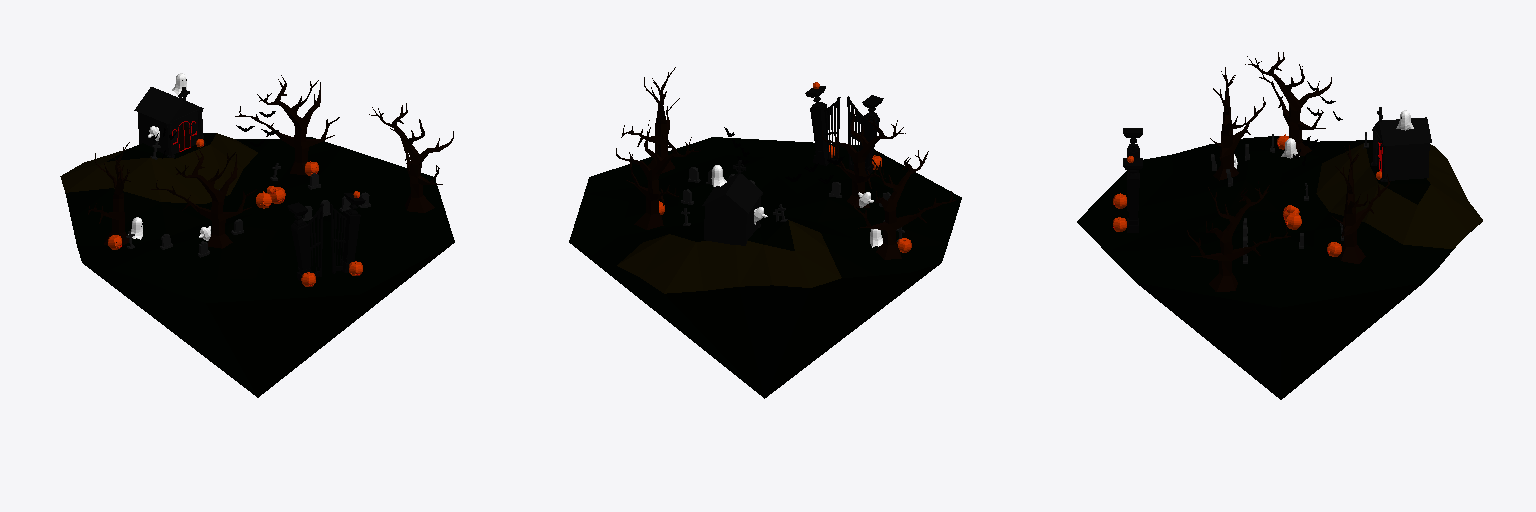
Rendered from lowpoly-graveyard.obj.
The picture shows the model from 3 angles: view 1: azimuth 30°, elevation 25°; view 2: azimuth 150°, elevation 25°; view 3: azimuth 270°, elevation 25°; orthographic projection.
Parts seen in each view (by area): view 1: Cylinder, Cube.012_Cube, Cube.006, Cylinder.001, Cylinder.003_Cylinder.004, Cylinder.002_Cylinder.004, Cylinder.004_Cylinder.005; view 2: Cylinder, Cube.012_Cube, Cube.006, Cylinder.004_Cylinder.005, Cylinder.003_Cylinder.004, Cylinder.001, Cylinder.002_Cylinder.004; view 3: Cylinder, Cube.012_Cube, Cylinder.002_Cylinder.004, Cylinder.004_Cylinder.005, Cylinder.003_Cylinder.004, Cylinder.001, Cube.006.
Part boxes in pixels (x1,y1,x2,y2): Cylinder: (60,133,454,397); Cube.012_Cube: (134,87,205,157); Cube.006: (287,193,365,281); Cylinder.001: (151,148,256,248); Cylinder.003_Cylinder.004: (235,75,339,174); Cylinder.002_Cylinder.004: (369,103,453,212); Cylinder.004_Cylinder.005: (88,142,130,245); Cylinder: (569,137,961,398); Cube.012_Cube: (702,160,762,245); Cube.006: (805,86,883,174); Cylinder.004_Cylinder.005: (852,150,955,259); Cylinder.003_Cylinder.004: (616,120,700,229); Cylinder.001: (822,105,905,207); Cylinder.002_Cylinder.004: (621,67,679,173); Cylinder: (1077,136,1482,399); Cube.012_Cube: (1371,107,1431,181); Cylinder.002_Cylinder.004: (1187,181,1290,291); Cylinder.004_Cylinder.005: (1245,52,1331,155); Cylinder.003_Cylinder.004: (1332,145,1390,263); Cylinder.001: (1210,67,1265,180); Cube.006: (1123,128,1142,232).
Size of the model in its own units: 37.65 by 28.79 by 37.15.